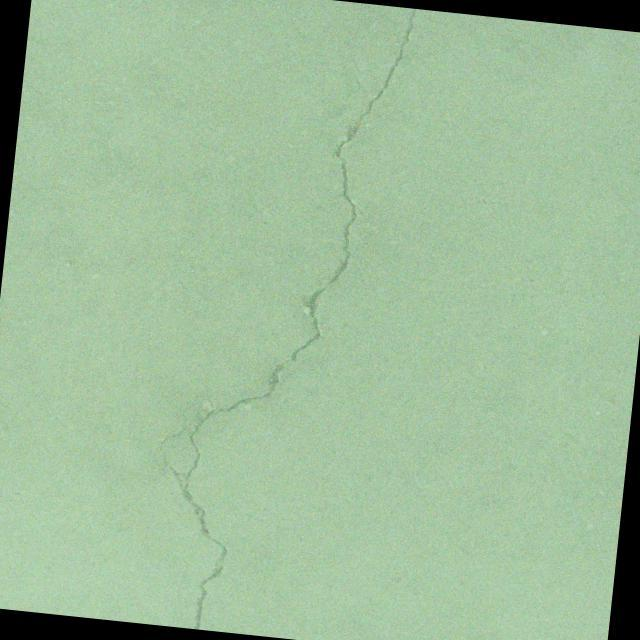crack: (139, 0, 418, 640)
